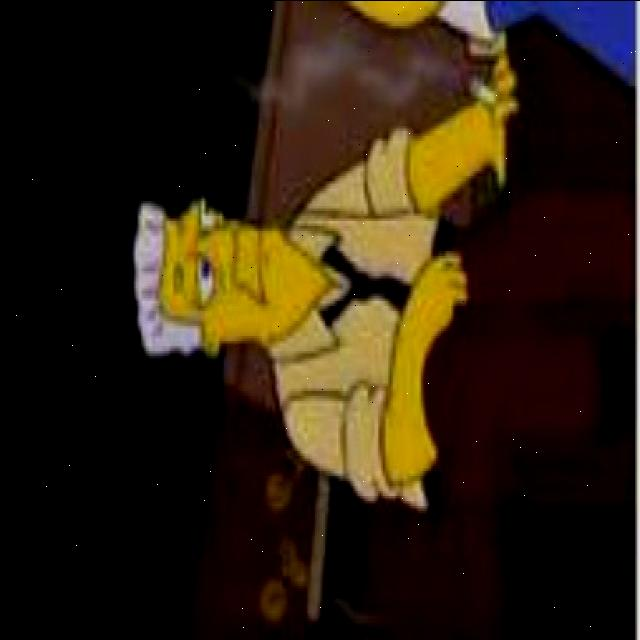Kent Brockman: (132, 191, 322, 359)
